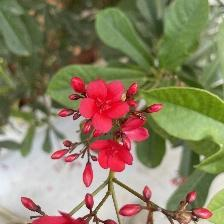jatropha: (79, 76, 135, 138), (88, 138, 140, 176)
